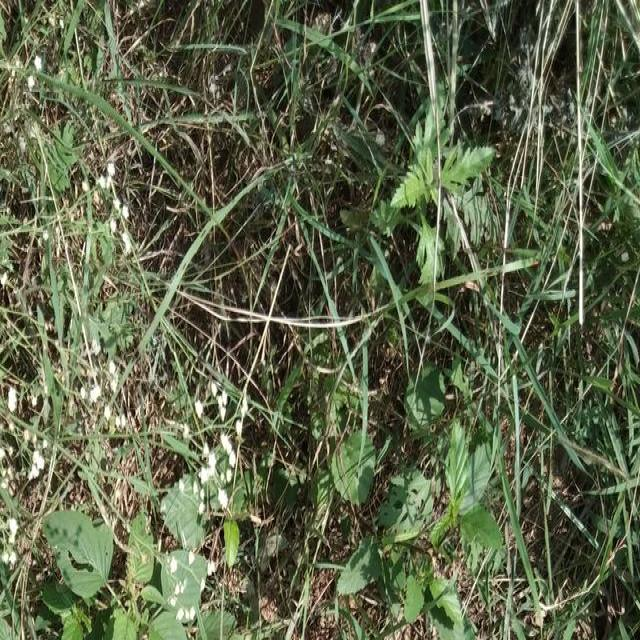weed: (1, 0, 244, 640), (314, 342, 506, 640), (400, 102, 496, 270)
